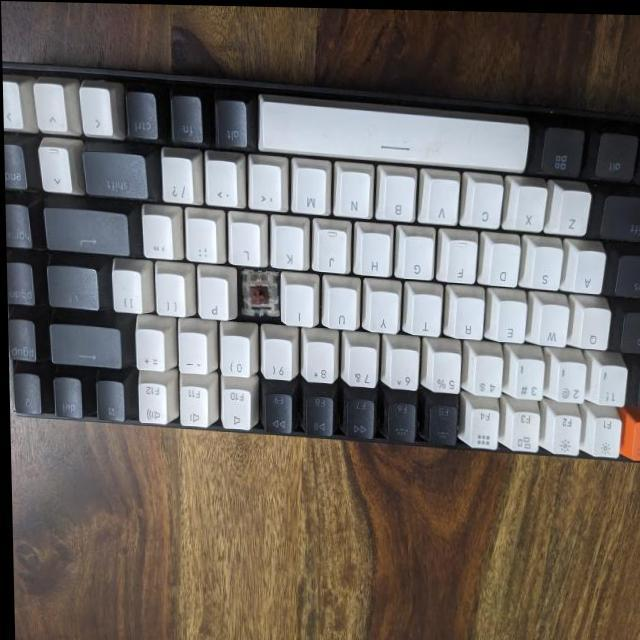key-switch: (239, 269, 278, 318)
